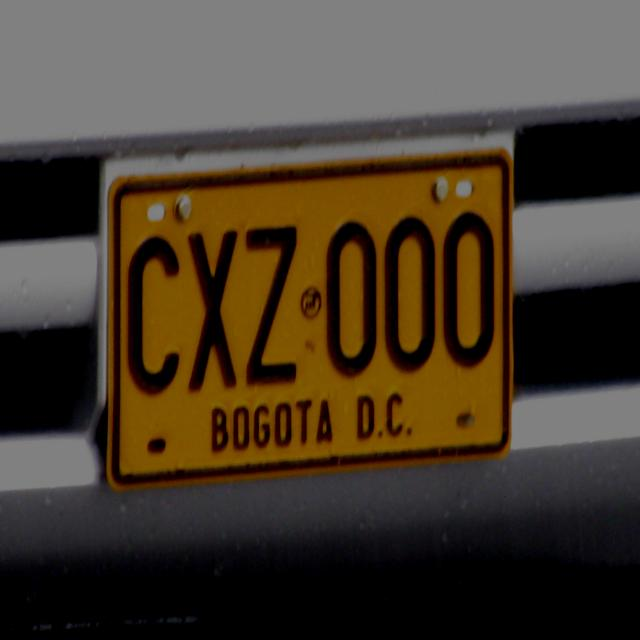particular: (102, 140, 515, 492)
